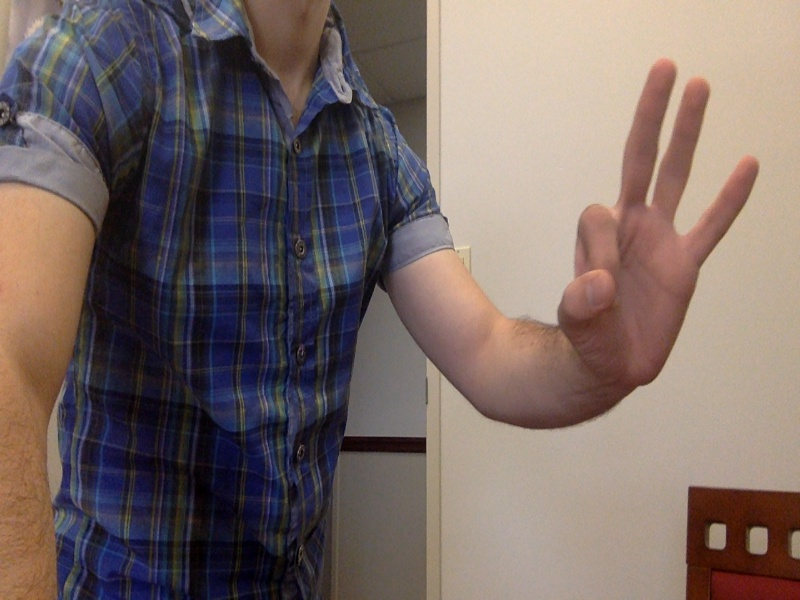3-hand: (571, 56, 761, 393)
